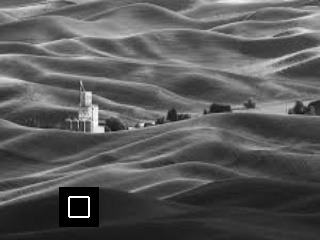square: (59, 187, 101, 227)
